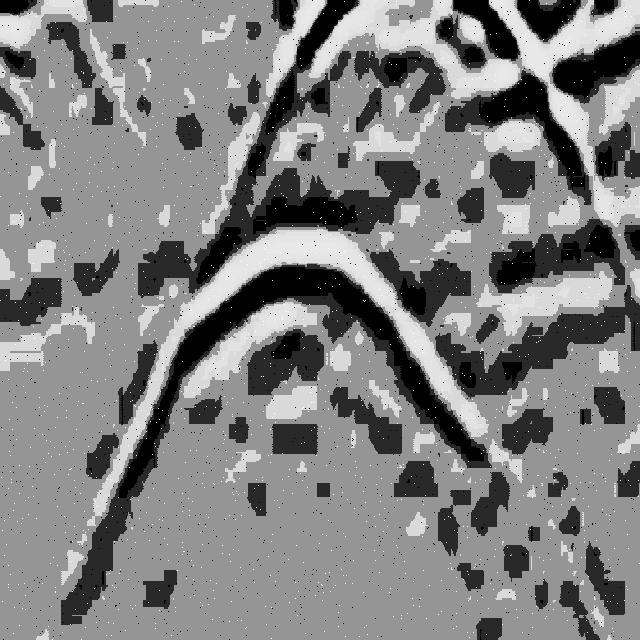hyperbola: (151, 204, 491, 465)
